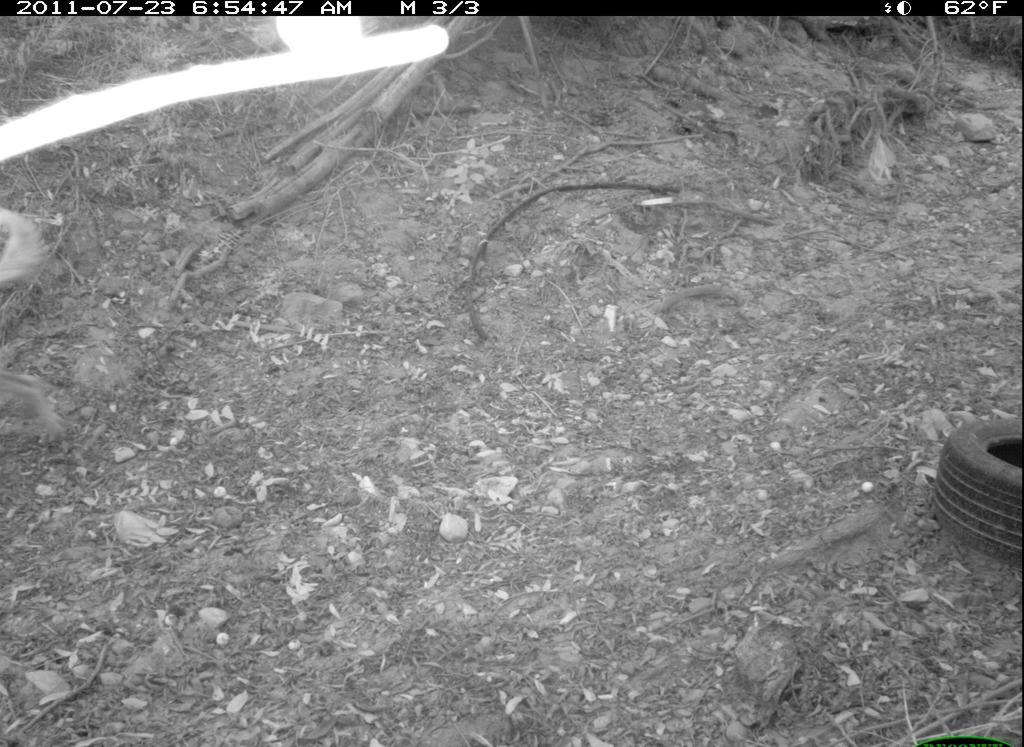dog: (3, 191, 63, 313)
